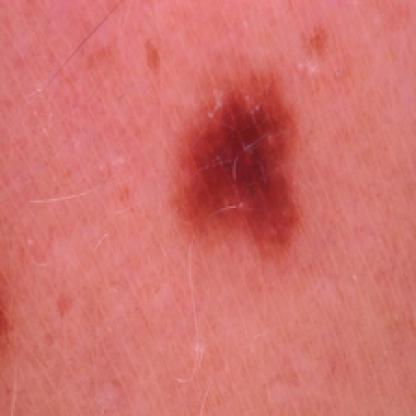benign: (175, 56, 312, 247)
